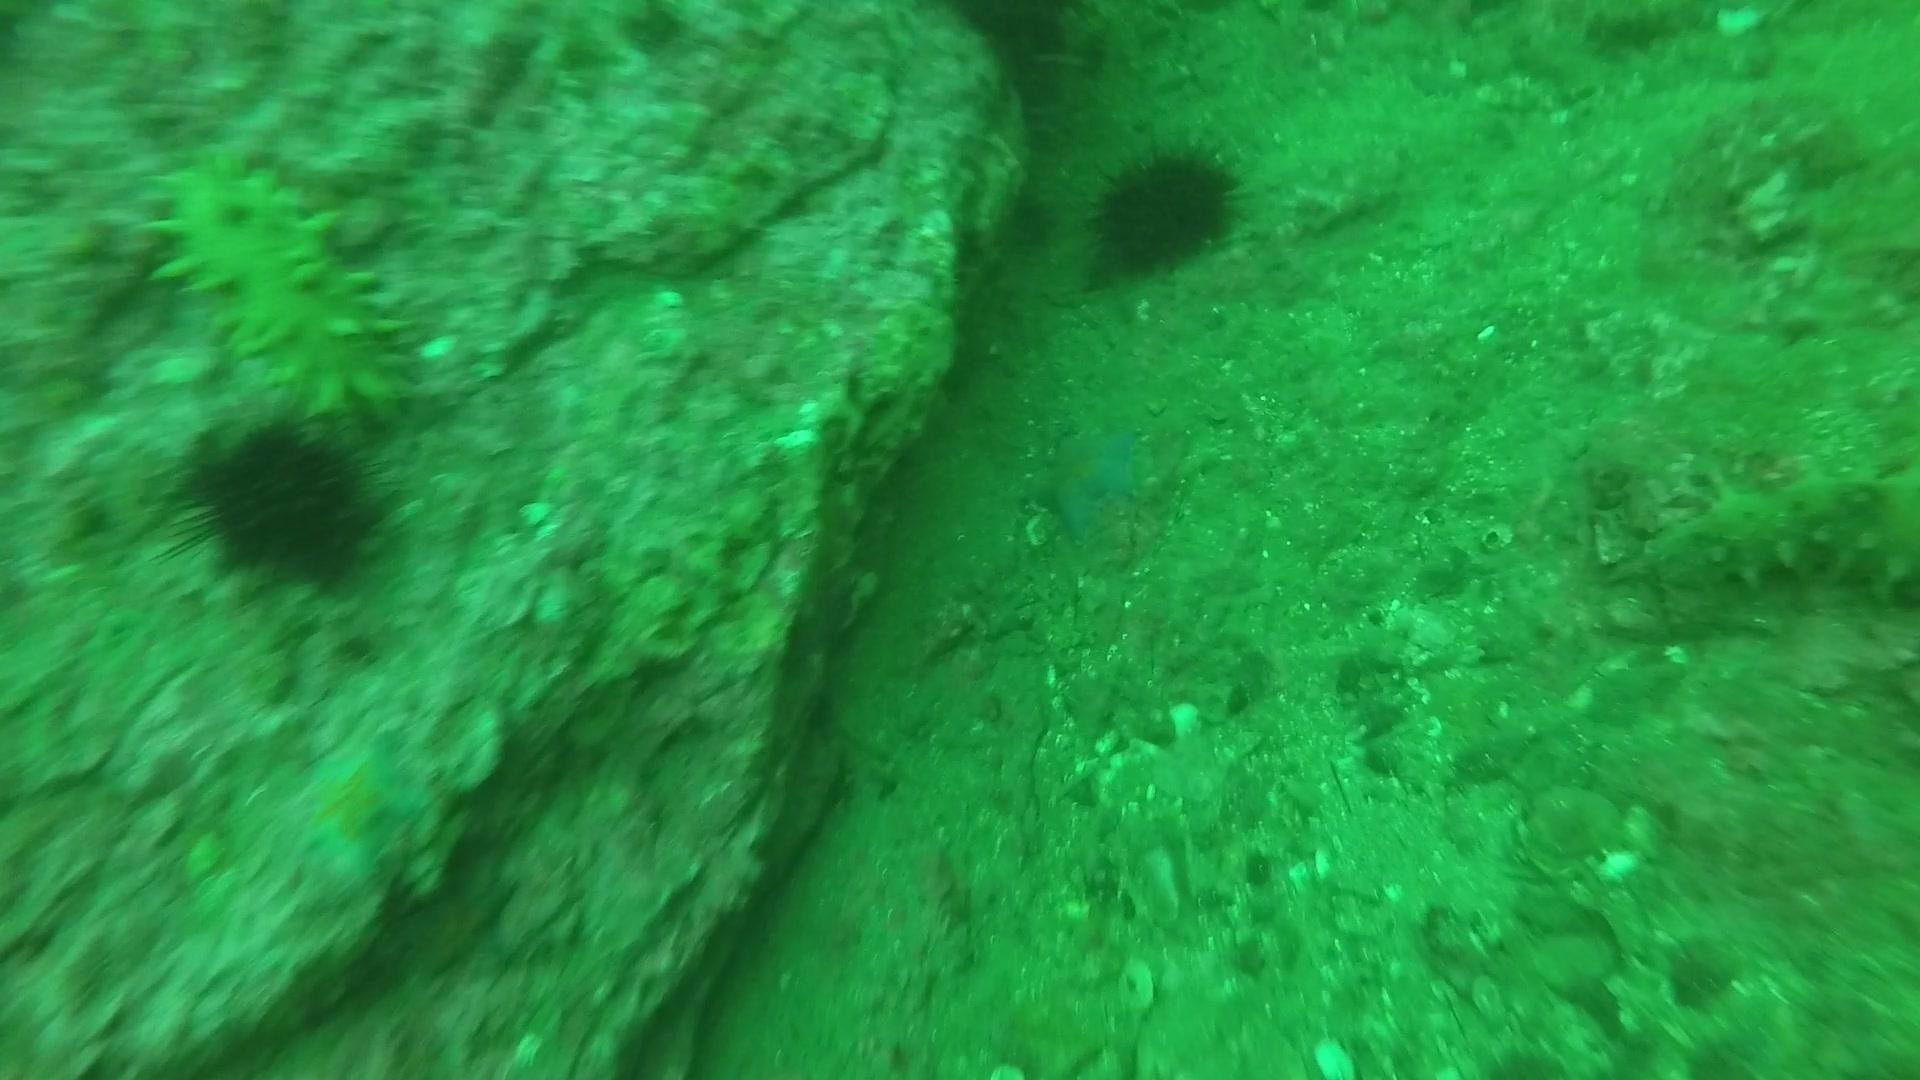echinus: (164, 404, 397, 595), (1080, 135, 1247, 284)
holothurian: (140, 145, 422, 433), (1629, 458, 1920, 608)
starfish: (272, 728, 434, 887), (1022, 415, 1153, 547), (386, 870, 520, 976)
